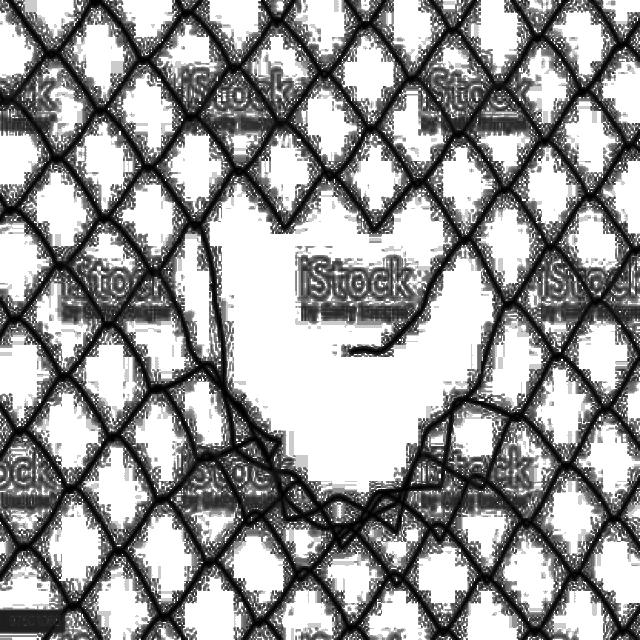anomaly-fence: (157, 129, 543, 582)
